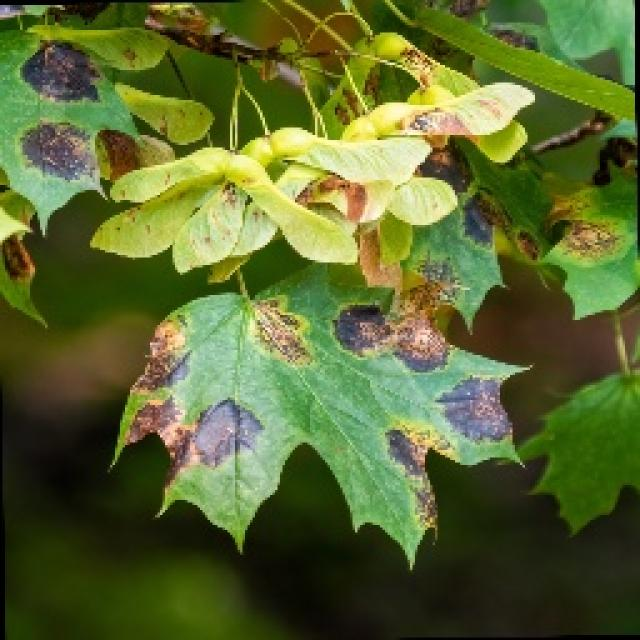Tar_Spot: (108, 258, 530, 568), (0, 20, 142, 235), (392, 632, 638, 638)
